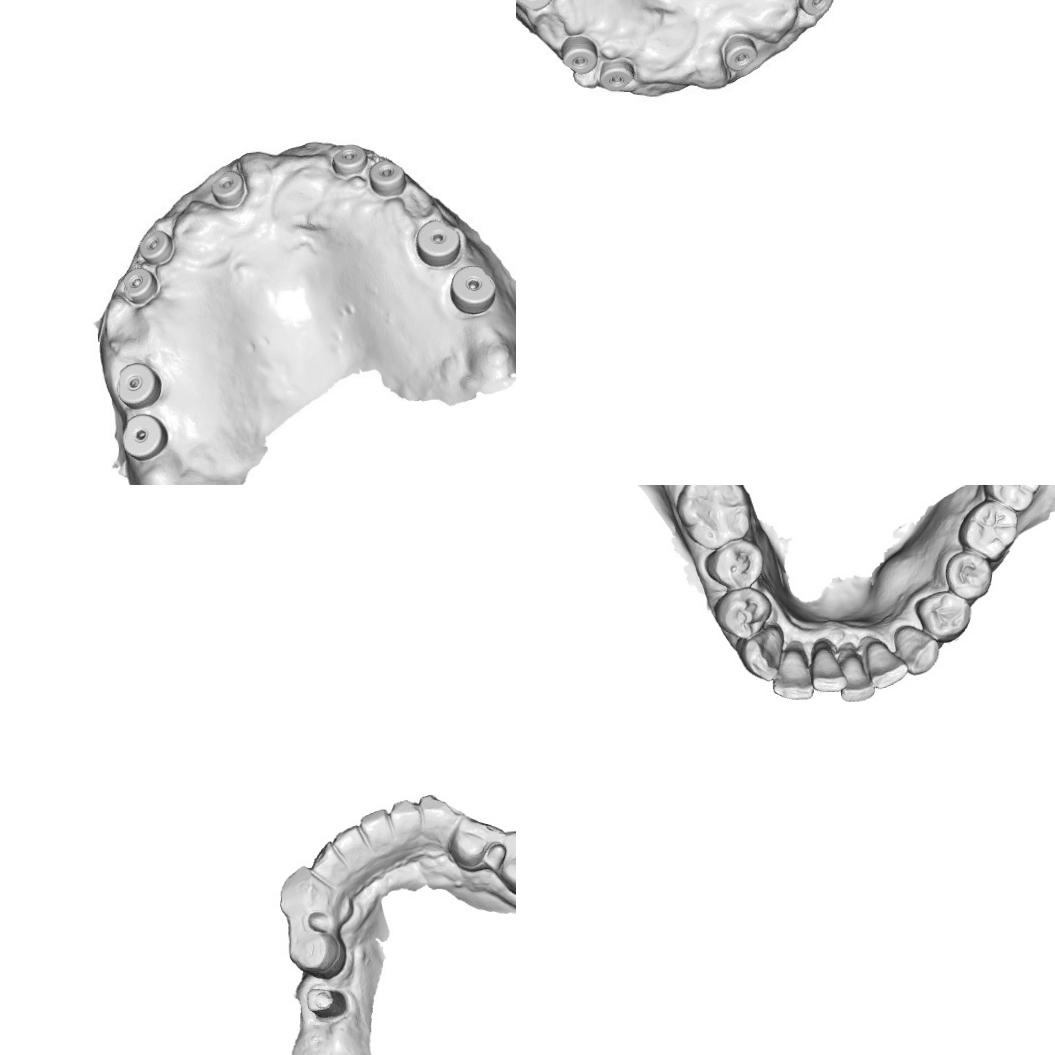abutment: (302, 981, 350, 1022)
canine: (274, 864, 336, 924), (735, 625, 785, 684), (892, 623, 940, 676), (417, 792, 462, 846)
implant: (114, 359, 164, 410), (448, 262, 495, 314), (416, 216, 463, 268), (120, 410, 168, 460), (118, 262, 159, 308), (205, 165, 248, 205), (136, 225, 176, 268), (560, 34, 598, 75), (363, 158, 406, 194), (722, 32, 759, 72), (331, 138, 367, 176), (598, 57, 635, 93), (796, 0, 833, 16)
incisor: (864, 638, 910, 690), (771, 648, 814, 702), (808, 645, 848, 694), (837, 653, 876, 703), (388, 798, 423, 836), (358, 808, 389, 845), (333, 824, 362, 858), (308, 841, 337, 874)
molar: (674, 485, 753, 551), (956, 499, 1020, 563), (981, 485, 1041, 513)
premolar: (913, 590, 974, 644), (285, 928, 348, 980), (447, 814, 501, 872), (714, 586, 773, 639), (705, 536, 764, 588), (942, 547, 992, 601), (495, 829, 516, 898)
